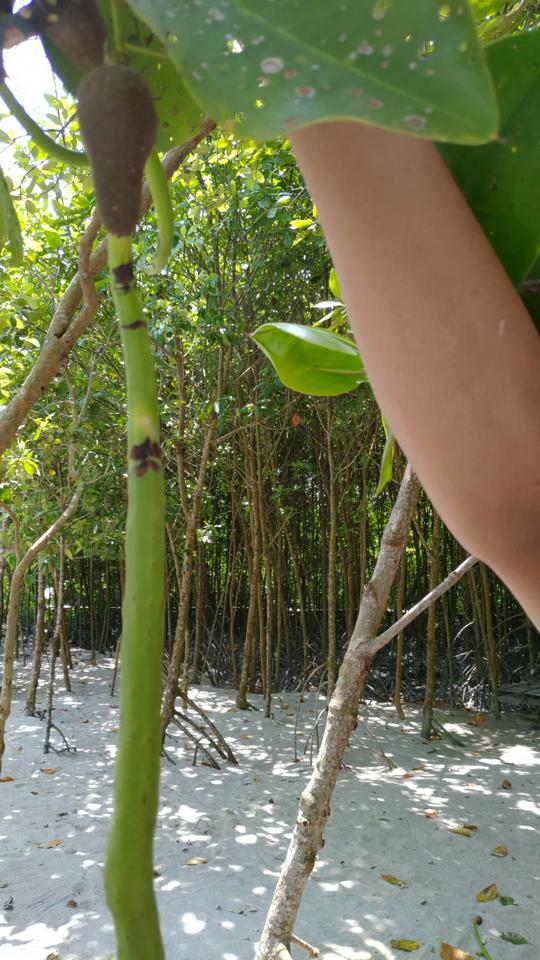setengah matang: (72, 48, 179, 959)
